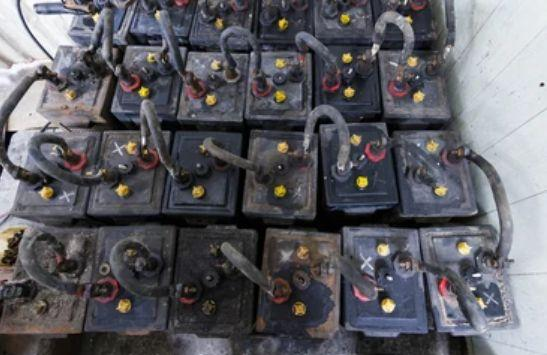battery: (0, 225, 97, 333), (421, 225, 515, 334), (84, 225, 176, 333), (341, 225, 429, 337), (170, 226, 258, 336), (254, 228, 341, 339), (8, 128, 104, 224), (391, 129, 478, 220), (319, 121, 400, 216), (242, 127, 319, 224), (162, 130, 244, 218), (86, 131, 167, 220), (36, 46, 118, 129), (109, 45, 186, 128), (377, 48, 452, 129), (175, 49, 250, 127), (313, 45, 383, 123), (245, 47, 313, 127), (368, 1, 441, 51), (188, 1, 257, 51), (125, 0, 193, 47), (65, 2, 133, 48), (313, 1, 378, 47), (255, 1, 314, 46), (429, 271, 471, 328)
